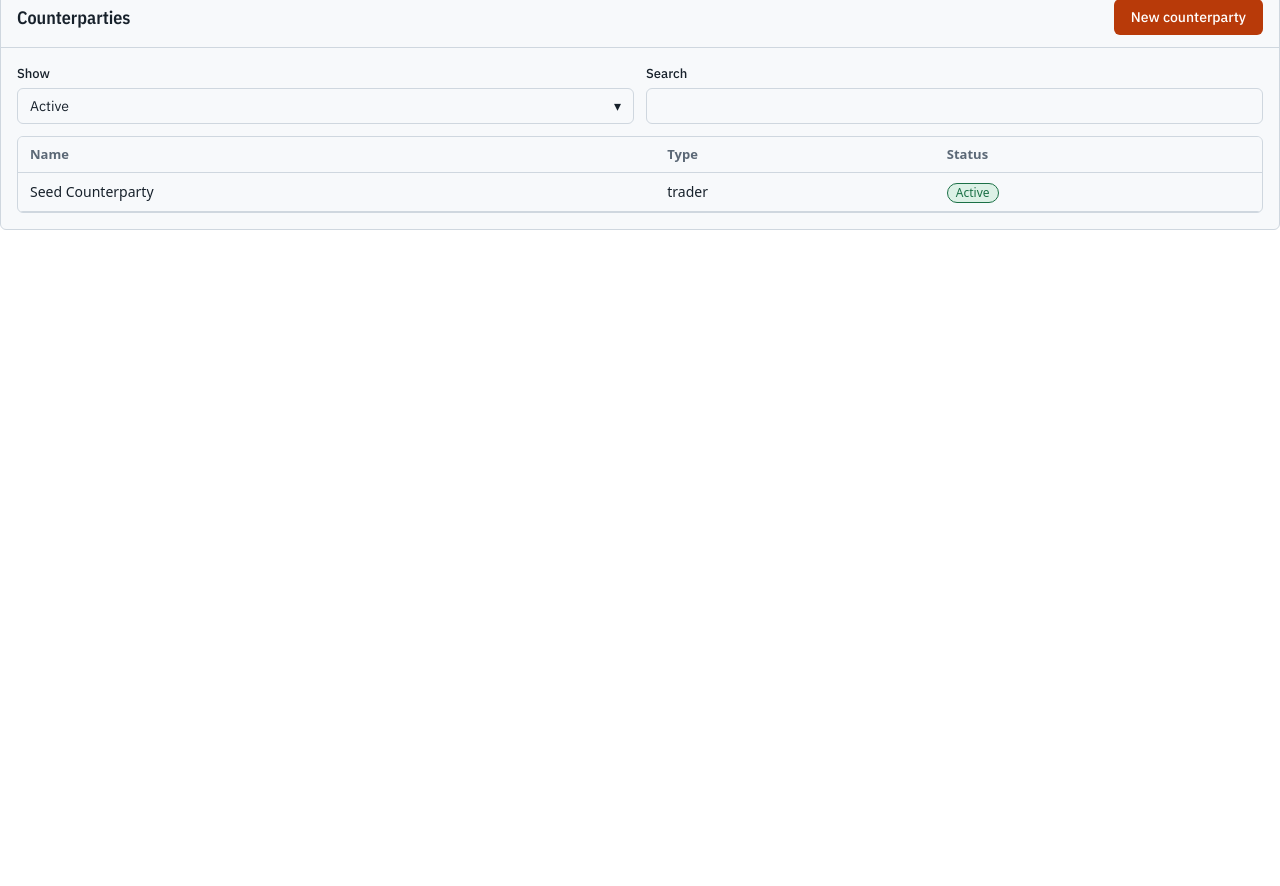
drafts, sets and focus › [B1-R11] set Save needs a change and is disabled again after saving
Click the cell "Seed Counterparty" at (337, 192), box [18, 173, 655, 212]
(page scrolled)
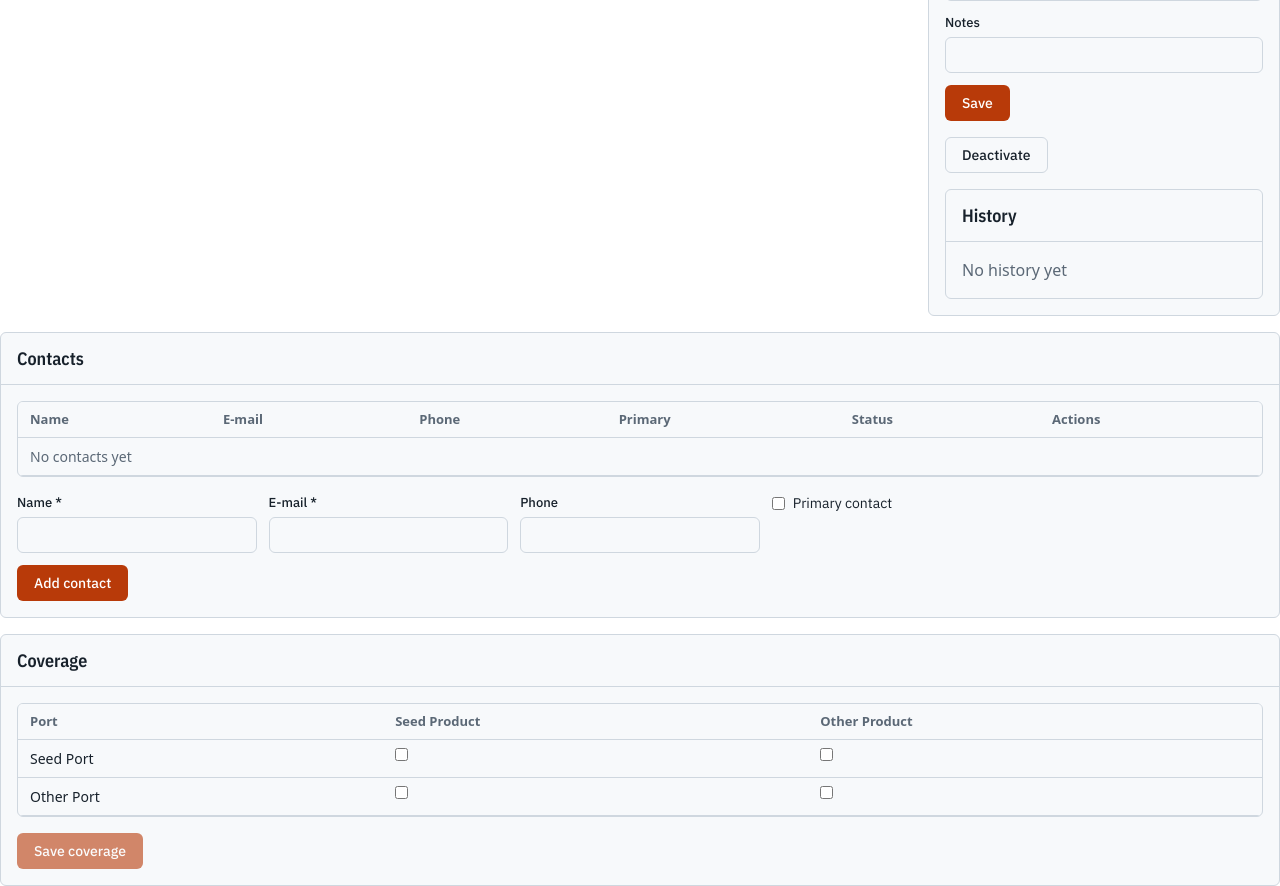
expect the 1st checkbox named "Seed Port – Seed Product" is shown: met
expect the button "Save coverage" is disabled: met, box [17, 833, 143, 869]
Click the 1st checkbox named "Seed Port – Seed Product" at (402, 754), box [395, 748, 408, 761]
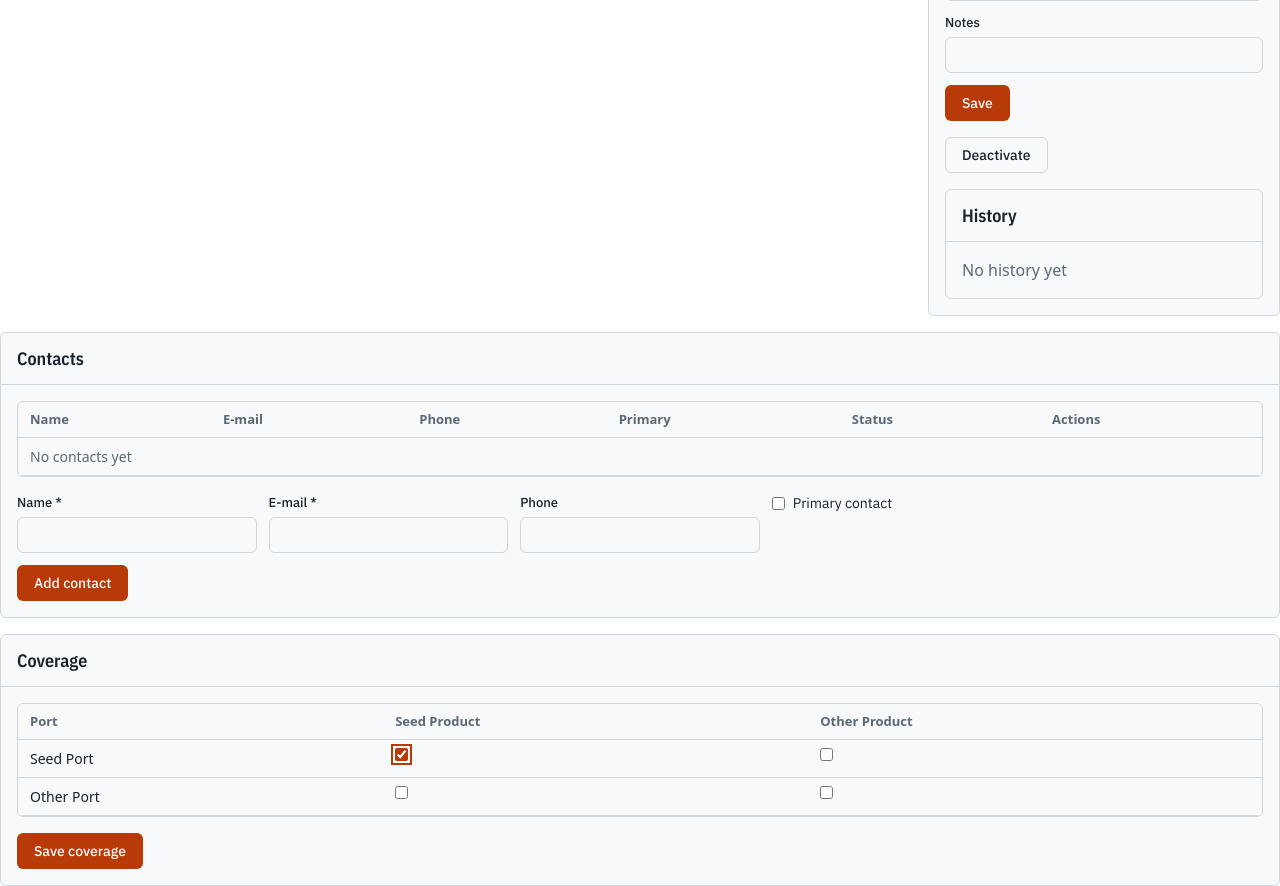
expect the button "Save coverage" is enabled: met
Click the button "Save coverage" at (80, 851), box [17, 833, 143, 869]
(page scrolled)
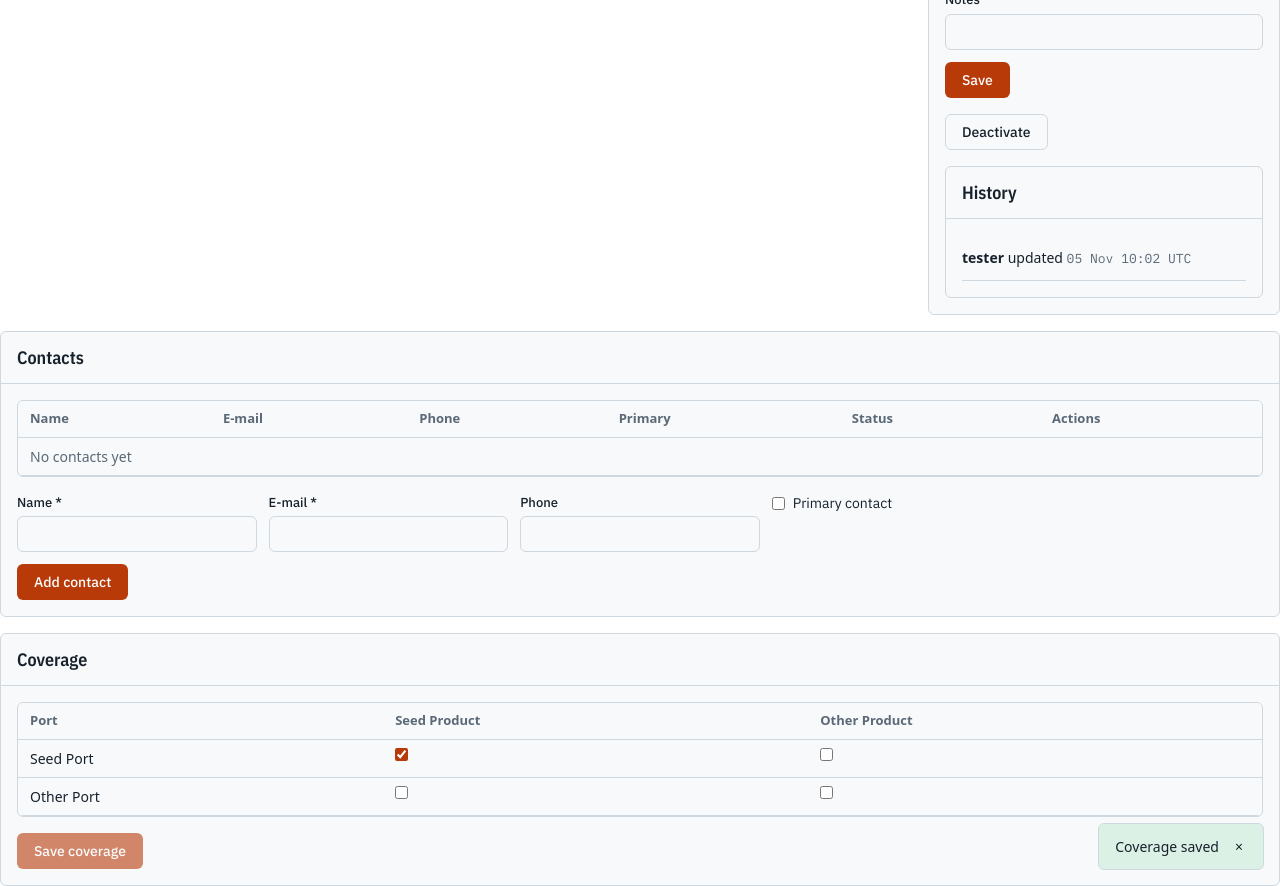
expect the text "Coverage saved" is shown: met, box [1115, 836, 1219, 857]
expect the button "Save coverage" is disabled: met, box [17, 832, 143, 868]
